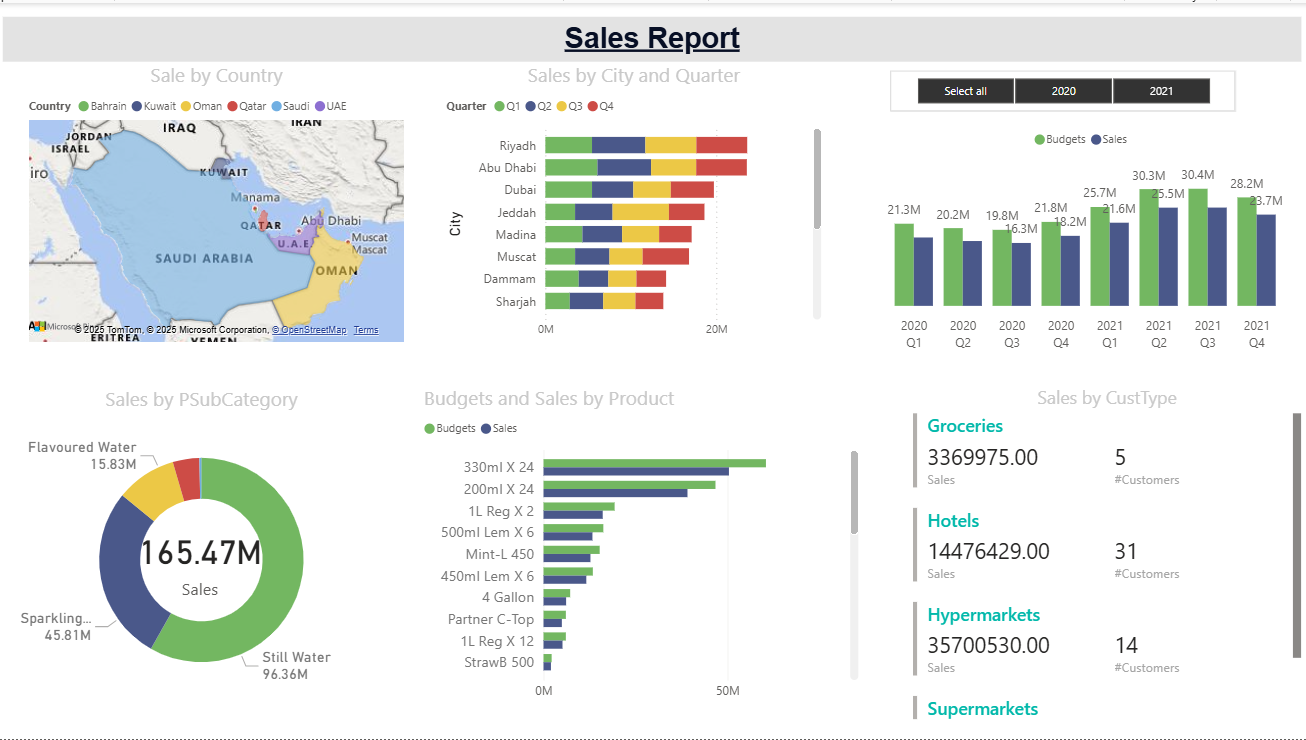

What the dashboard file says about the page in this screenshot:
{"tool":"powerbi","page":{"name":"Sales 1","canvas":[1280,720],"ordinal":1},"visuals":[{"type":"textbox","box":[3.7,13.5,1270.5,44],"z":0},{"type":"filledMap","title":"Sale by Country","fields":{"Category":["Geography.Country"],"Series":["Geography.Country"]},"box":[24,58,377,279],"z":1000},{"type":"barChart","title":"Sales by City and Quarter","fields":{"Category":["Geography.City"],"Y":["Sales Data.Sales"],"Series":["Dates.Quarter"]},"box":[432.9,57.5,376.6,278.8],"z":2000},{"type":"clusteredColumnChart","title":"Sale by Country","fields":{"Category":["Dates.Year","Dates.Quarter"],"Y":["Sales Data.Budgets","Sales Data.Sales"]},"box":[846,115,428,232],"z":3000},{"type":"donutChart","title":"Sales by PSubCategory","fields":{"Category":["Sales Data.PCategory","Sales Data.PSubCategory","Sales Data.Product"],"Y":["Sales Data.Sales"]},"box":[15,374,367,317],"z":4000},{"type":"clusteredBarChart","title":"Budgets and Sales by Product","fields":{"Category":["Sales Data.Product"],"Y":["Sales Data.Budgets","Sales Data.Sales"]},"box":[411,373,435,318],"z":5000},{"type":"multiRowCard","title":"Sales by CustType","fields":{"Values":["Sales Data.CustType","Sales Data.Sales","Sales Data.#Customers"]},"box":[889,374,390,331],"z":6000},{"type":"slicer","fields":{"Values":["Dates.Year"]},"box":[871.9,66,337.5,40.4],"z":7000},{"type":"card","fields":{"Values":["Sales Data.Sales"]},"box":[117,502,159,87],"z":8000}]}

Visuals, with their boxes in screenshot pixels (x1, y1, x2, y2), scaled from the page's 1280x720 canvas onto the 1306x740 screenshot:
textbox: <box>4,14,1300,59</box>
"Sale by Country" filledMap: <box>24,60,409,346</box>
"Sales by City and Quarter" barChart: <box>442,59,826,346</box>
"Sale by Country" clusteredColumnChart: <box>863,118,1300,357</box>
"Sales by PSubCategory" donutChart: <box>15,384,390,710</box>
"Budgets and Sales by Product" clusteredBarChart: <box>419,383,863,710</box>
"Sales by CustType" multiRowCard: <box>907,384,1305,725</box>
slicer - Dates.Year: <box>890,68,1234,109</box>
card - Sales Data.Sales: <box>119,516,282,605</box>
